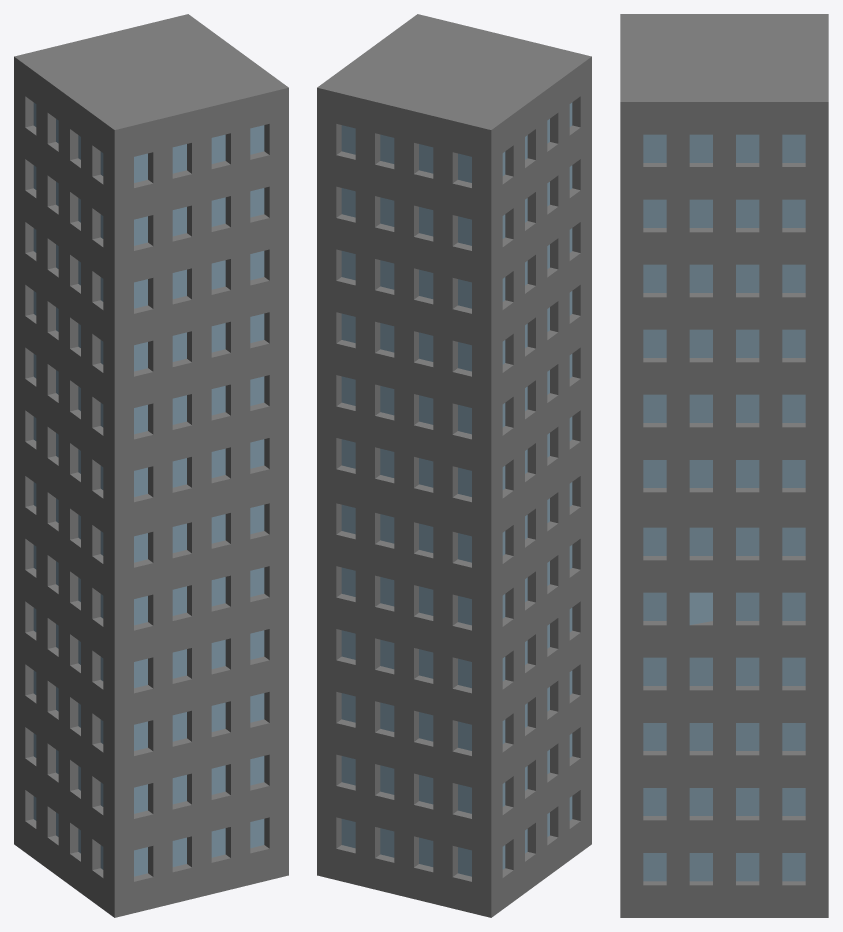
Rendered from BASIC BUILDING TALL final.fbx.
The picture shows the model from 3 angles, left to right: view 1: azimuth 30°, elevation 25°; view 2: azimuth 150°, elevation 25°; view 3: azimuth 270°, elevation 25°; orthographic projection. The views are drawn at different scales.
Parts seen in each view (by area): view 1: pCube2, pCube1; view 2: pCube2, pCube1; view 3: pCube2, pCube1.
Part boxes in pixels (left/top/right/bottom): pCube2: left=14, top=14, right=288, bottom=537; pCube1: left=14, top=436, right=288, bottom=917; pCube2: left=317, top=14, right=591, bottom=536; pCube1: left=317, top=436, right=591, bottom=917; pCube2: left=620, top=14, right=828, bottom=524; pCube1: left=620, top=495, right=828, bottom=917.
Bounding box in the file's own units: 0.1009 × 0.4358 × 0.1009.
